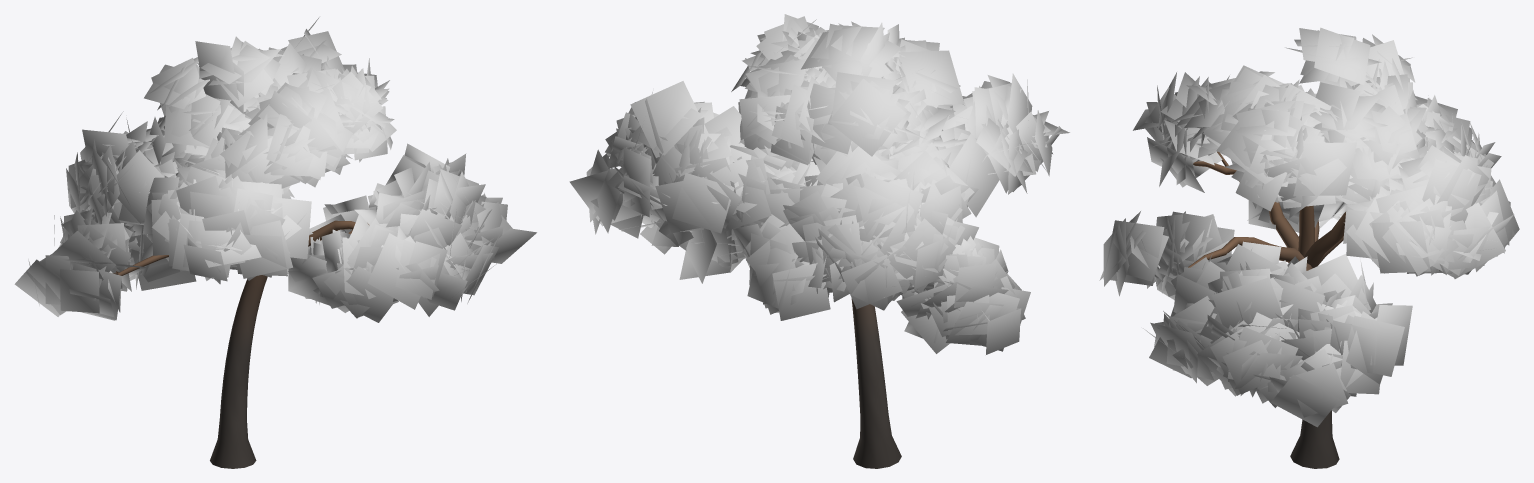
3 renders of one model, left to right at view 1: azimuth 30°, elevation 25°; view 2: azimuth 150°, elevation 25°; view 3: azimuth 270°, elevation 25°, orthographic. The views are drawn at different scales.
Parts seen in each view (by area): view 1: crown, trunk; view 2: crown, trunk; view 3: crown, trunk.
Part boxes in pixels (<box>): crown: <box>14,17,536,322</box>; trunk: <box>113,220,369,468</box>; crown: <box>569,14,1069,354</box>; trunk: <box>851,298,901,468</box>; crown: <box>1099,27,1519,427</box>; trunk: <box>1188,151,1345,468</box>.
Bounding box in the file's own units: 13.03 × 11.38 × 9.78.
